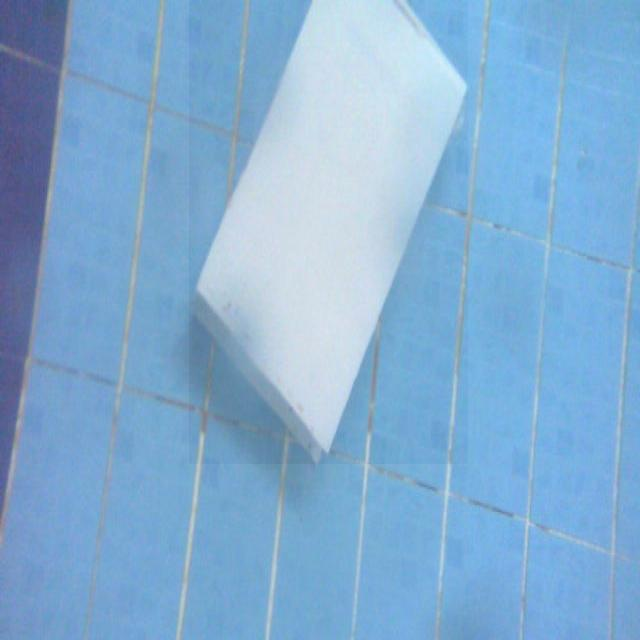Cuboid: (189, 0, 468, 464)
